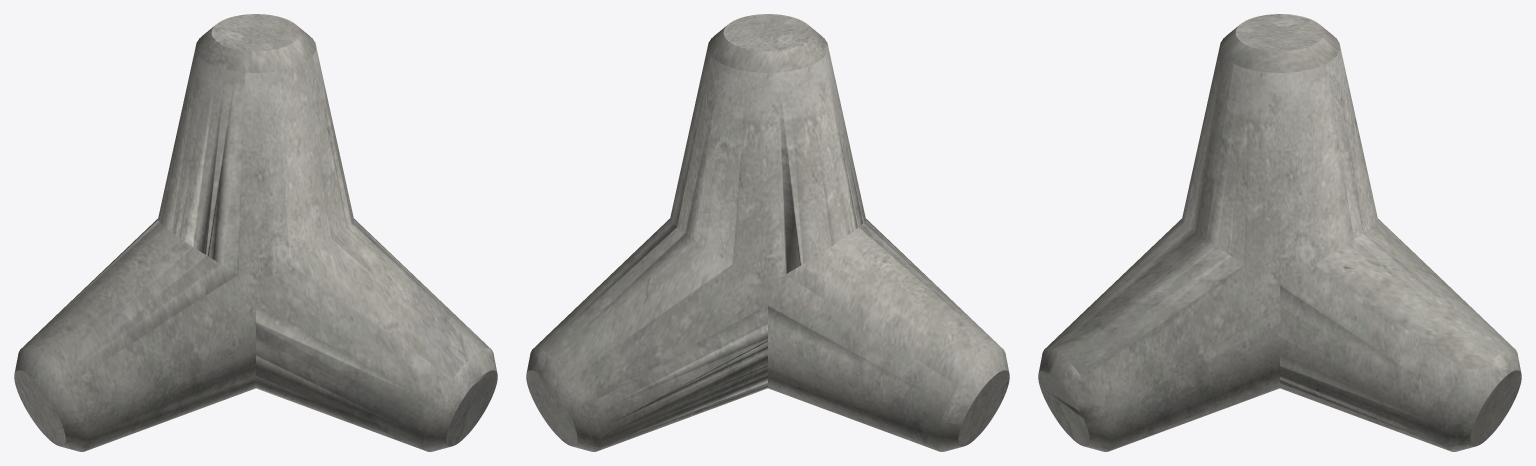
File: a07_tetrapod.glb
3 views of the same model, side by side, from view 1: azimuth 30°, elevation 25°; view 2: azimuth 150°, elevation 25°; view 3: azimuth 270°, elevation 25° (orthographic).
Parts seen in each view (by area): view 1: body; view 2: body; view 3: body.
Part boxes in pixels (bbox=[...]): body: bbox=[14, 14, 497, 451]; body: bbox=[526, 14, 1009, 451]; body: bbox=[1038, 14, 1521, 451].
Bounding box in the file's own units: 0.8995 × 0.8426 × 1.
Materials: 1 (1 with a texture image).
